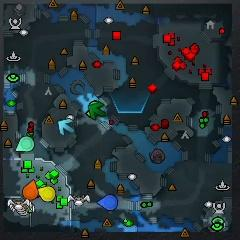p1: (97, 194, 118, 210)
p2: (15, 137, 34, 152)
p4: (37, 186, 56, 202)
p5: (23, 180, 38, 199)
x3: (57, 119, 75, 135)
x4: (88, 103, 105, 120)
